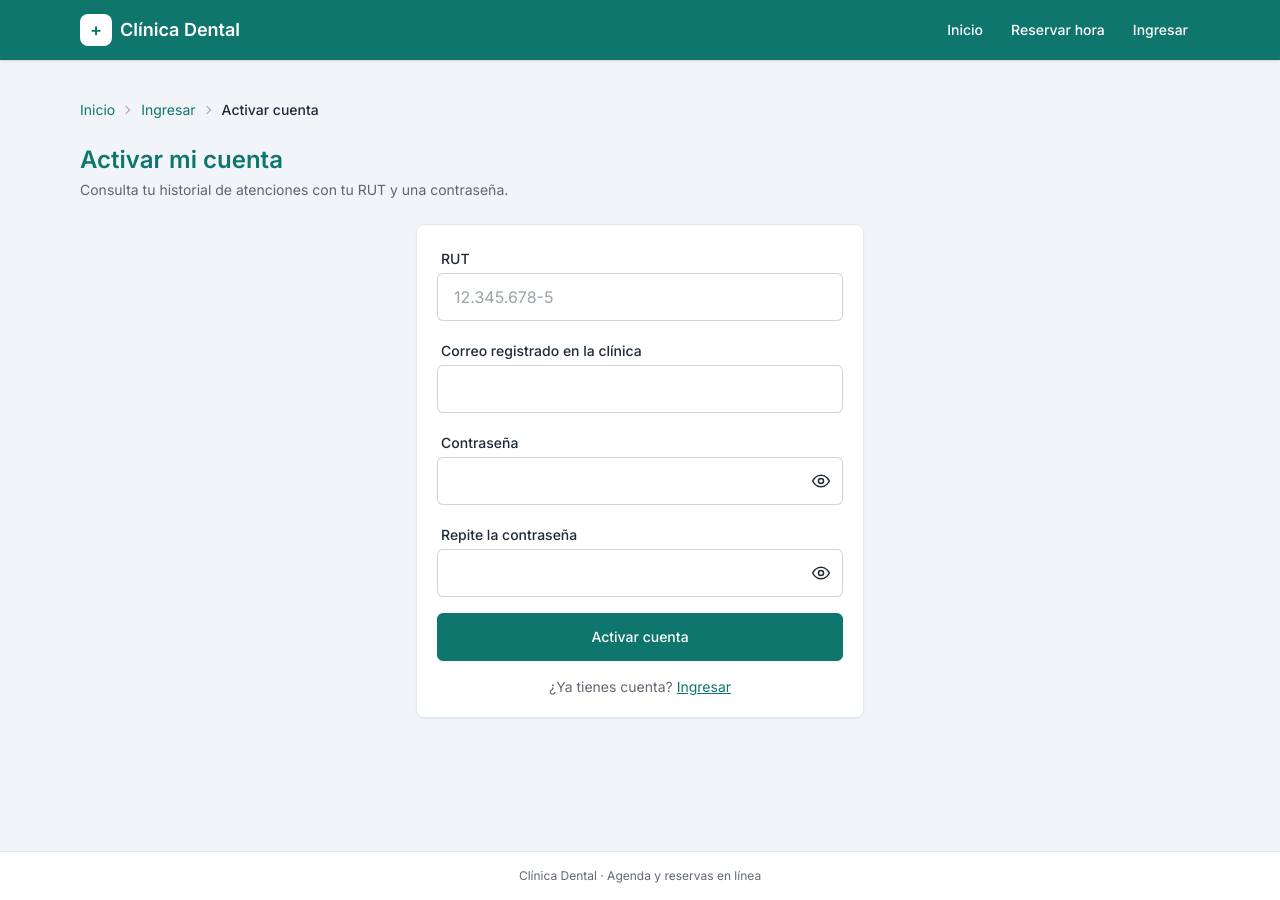
Test: Activar cuenta › muestra el error del servidor
Type "123456785" into the field labelled "RUT" at (640, 297), box [437,273,843,321]
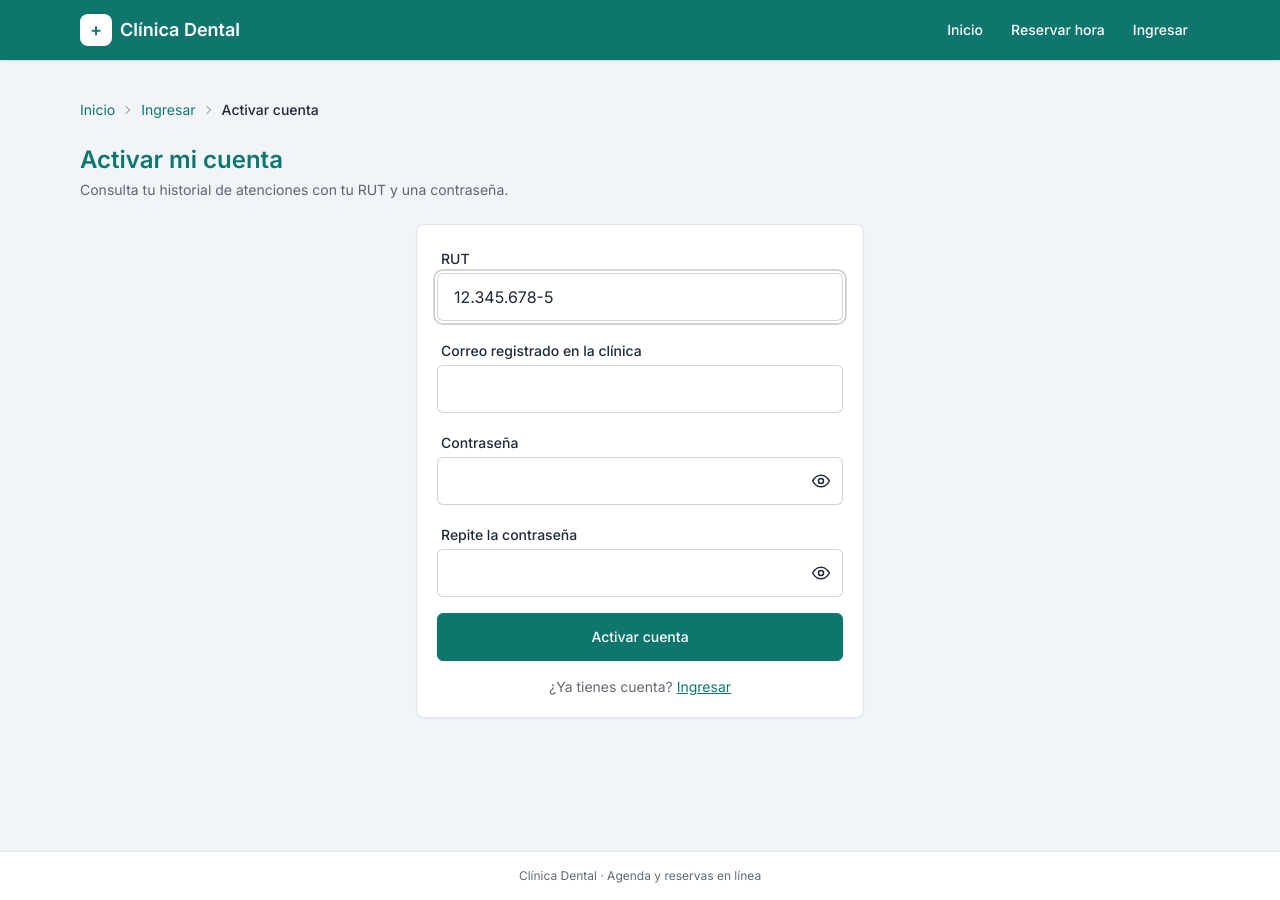
Type "juan@test.cl" into the field labelled "Correo registrado en la clínica" at (640, 389), box [437,365,843,413]
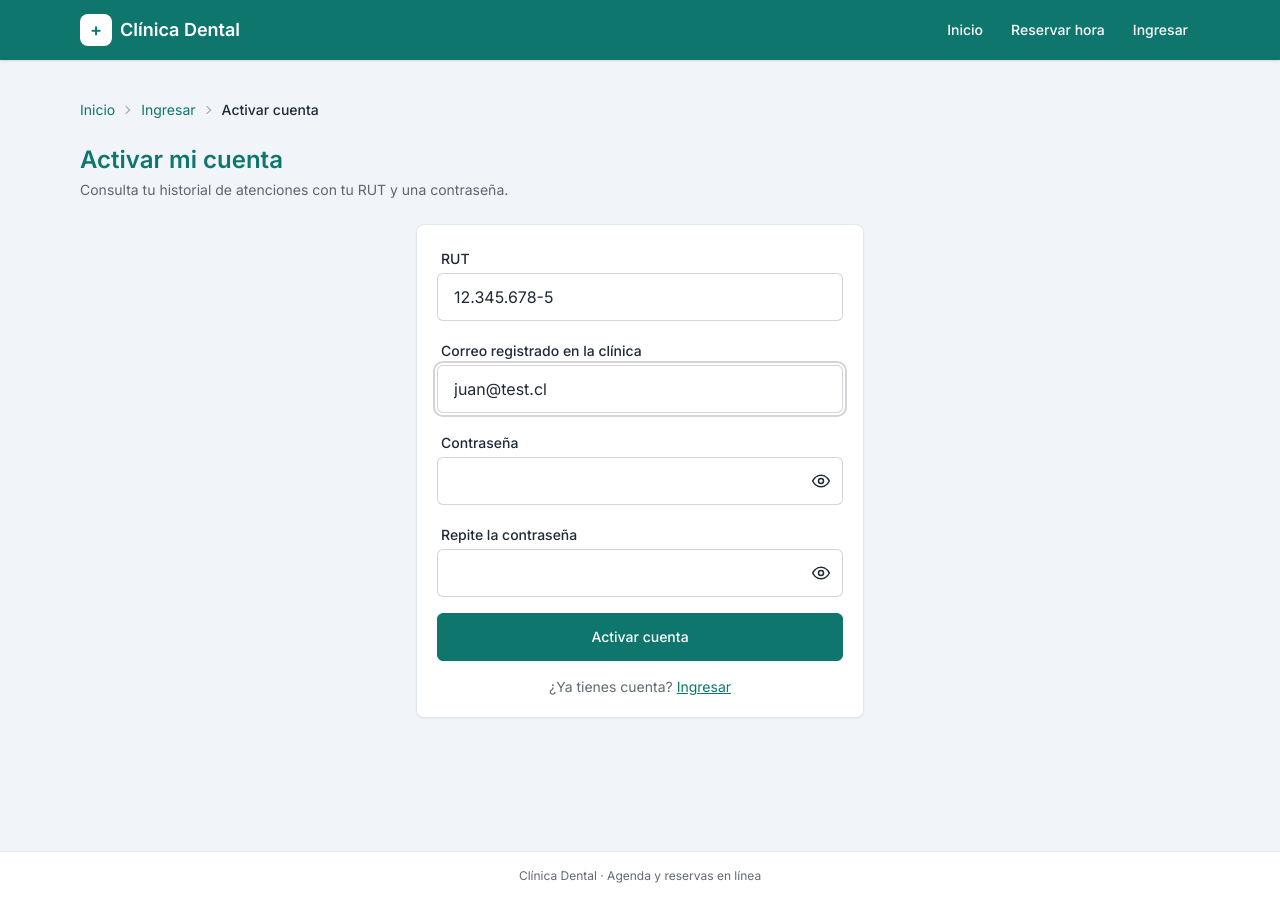
Type "Clave-segura-1" into the password field labelled "Contraseña" at (640, 481), box [437,457,843,505]
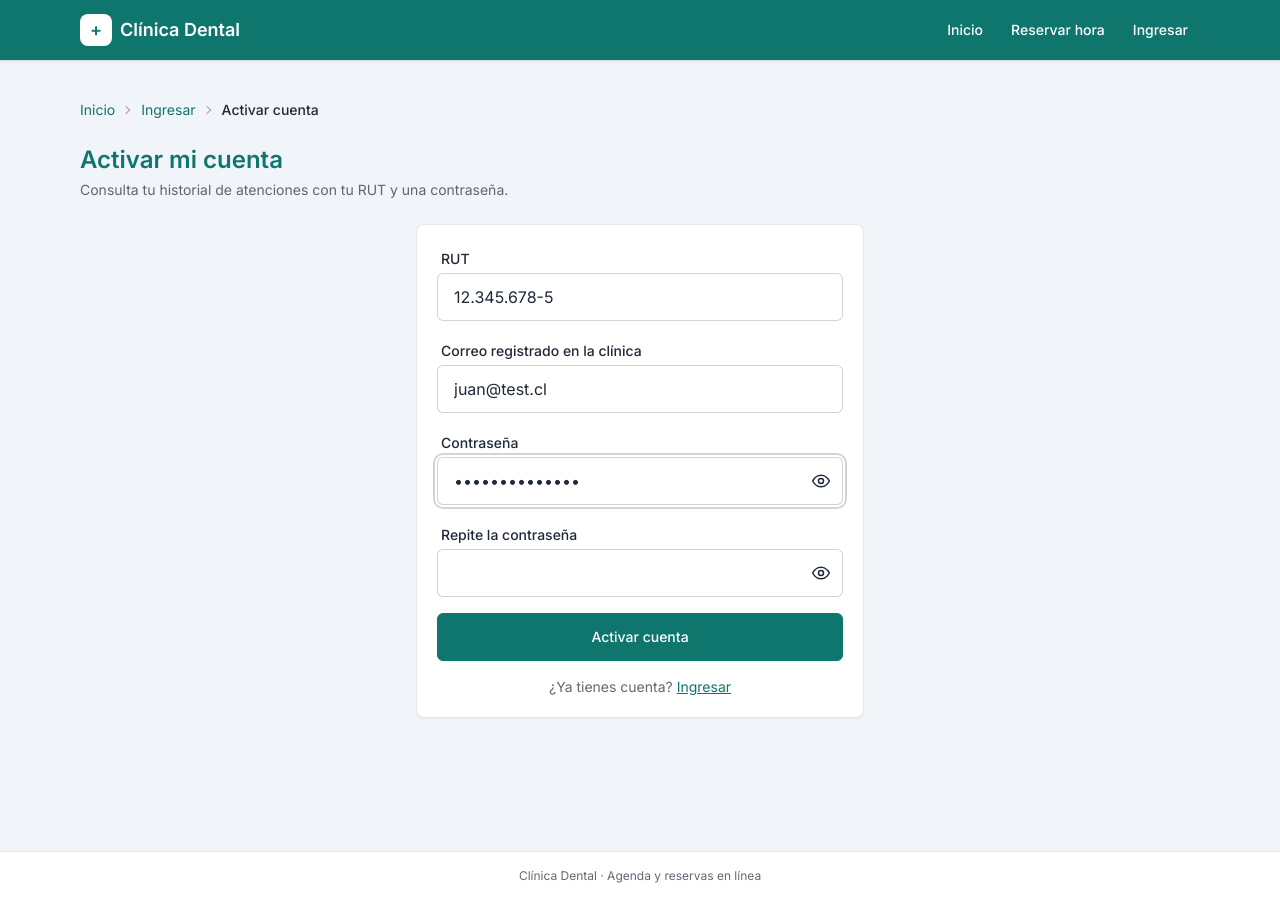
Type "Clave-segura-1" into the password field labelled "Repite la contraseña" at (640, 573), box [437,549,843,597]
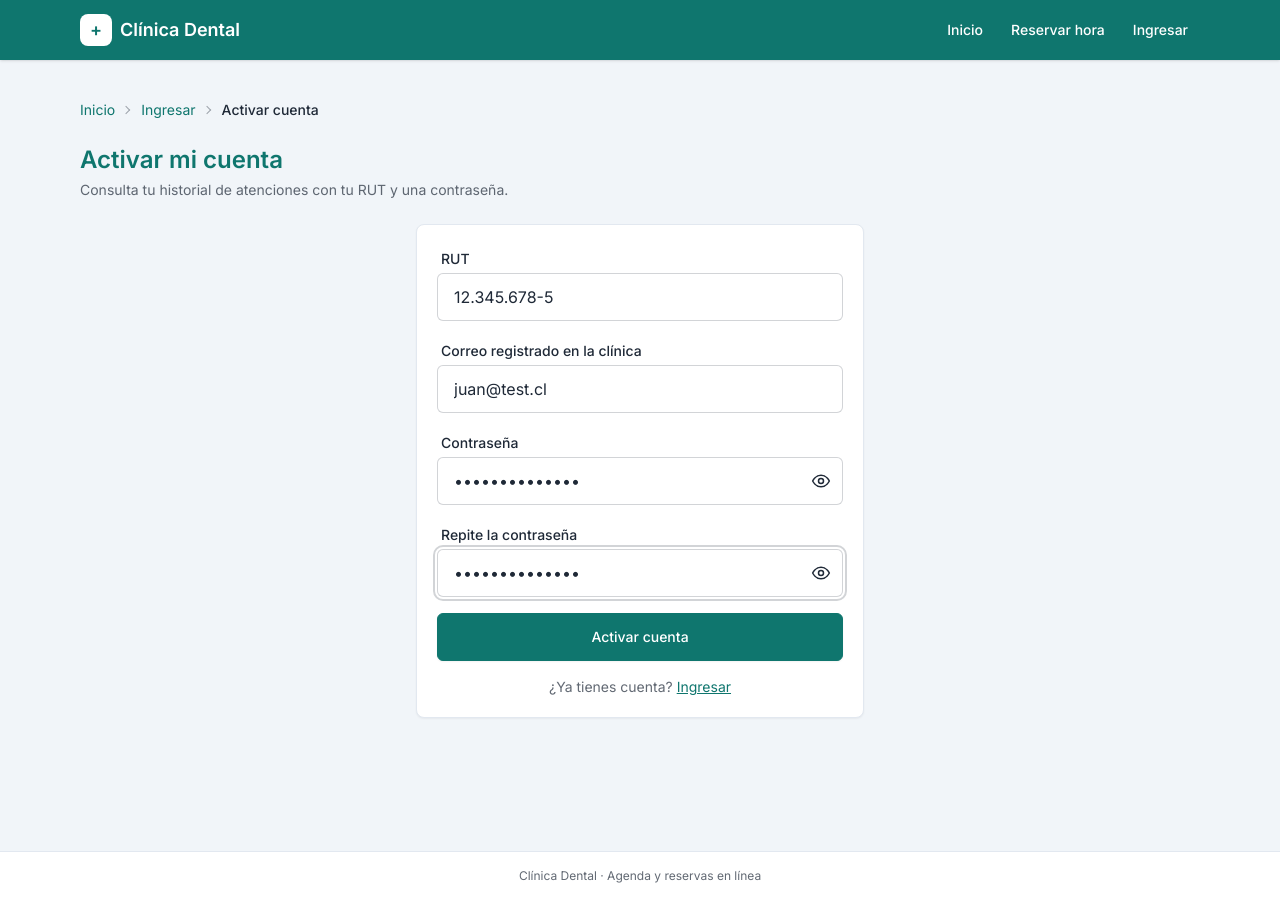
Click the button "Activar cuenta" at (640, 637), box [437,613,843,661]
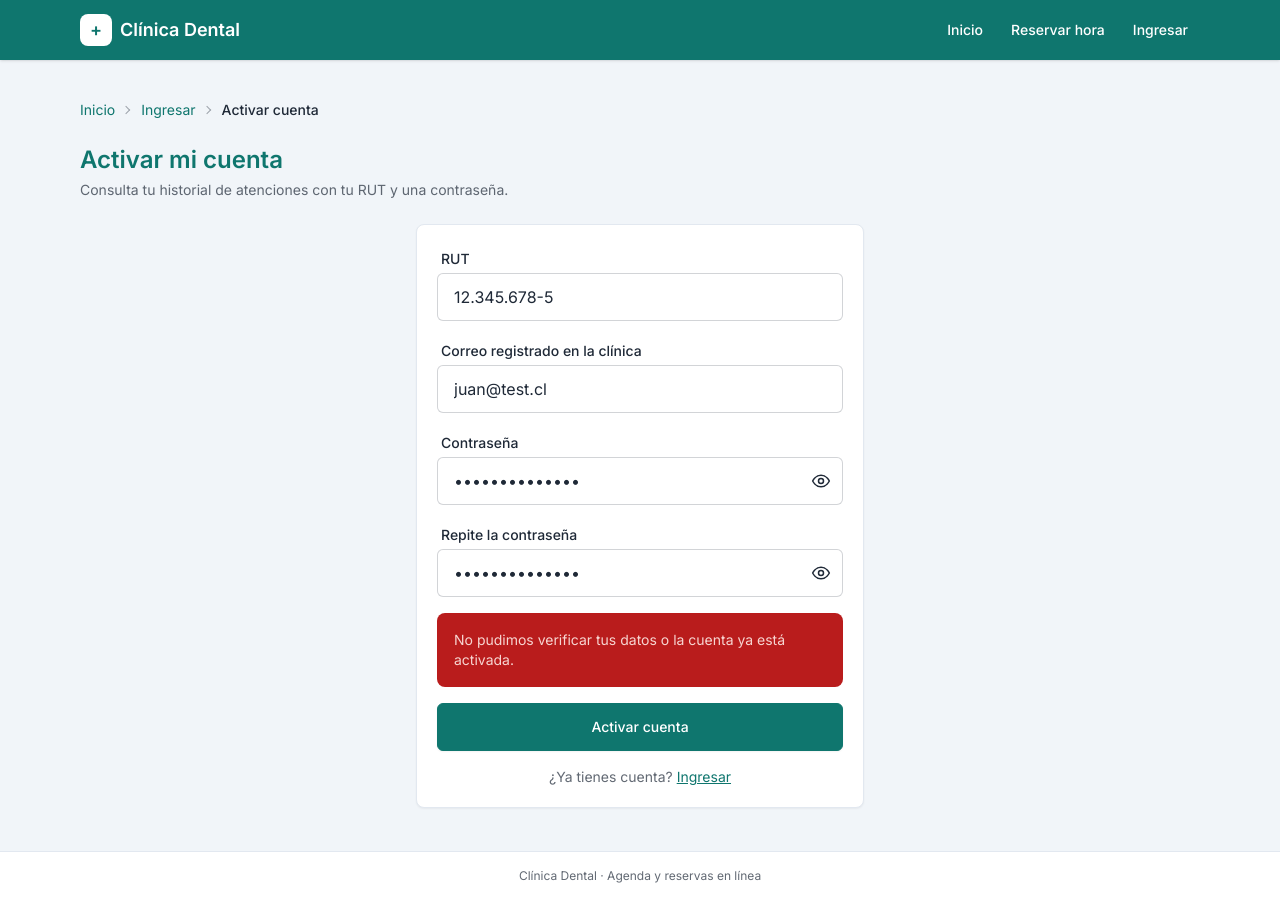
Expected: the button "Activar cuenta" is enabled, [437,703,843,751]
Expected: the message shows "No pudimos verificar", [454,631,785,668]
